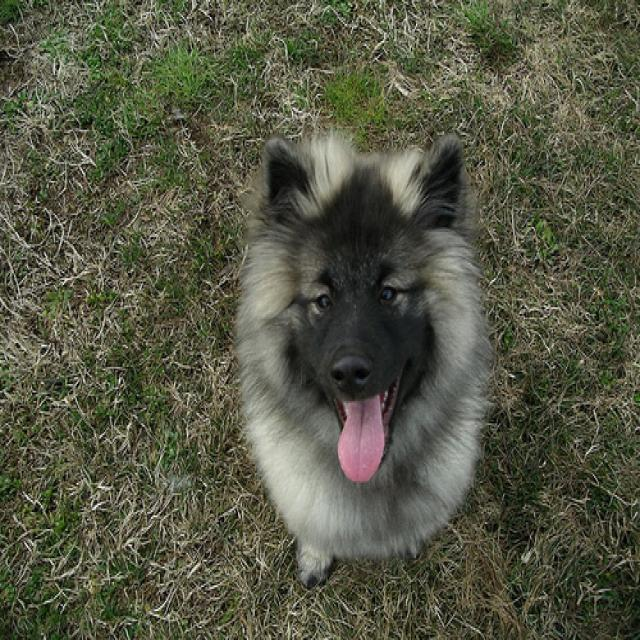dog-keeshond: (233, 118, 498, 594)
